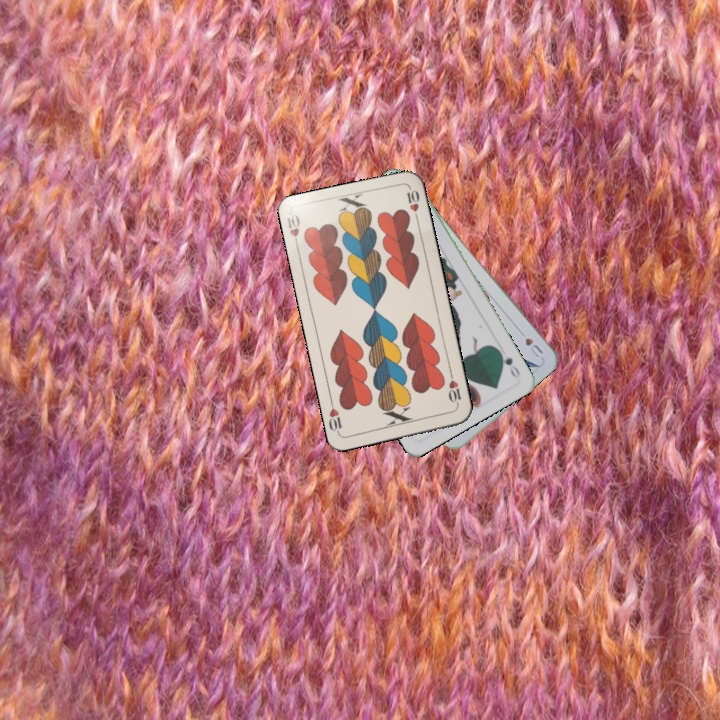GO: (494, 346, 523, 380)
H10: (444, 369, 464, 409), (283, 210, 302, 251)
HU: (521, 334, 545, 360)
